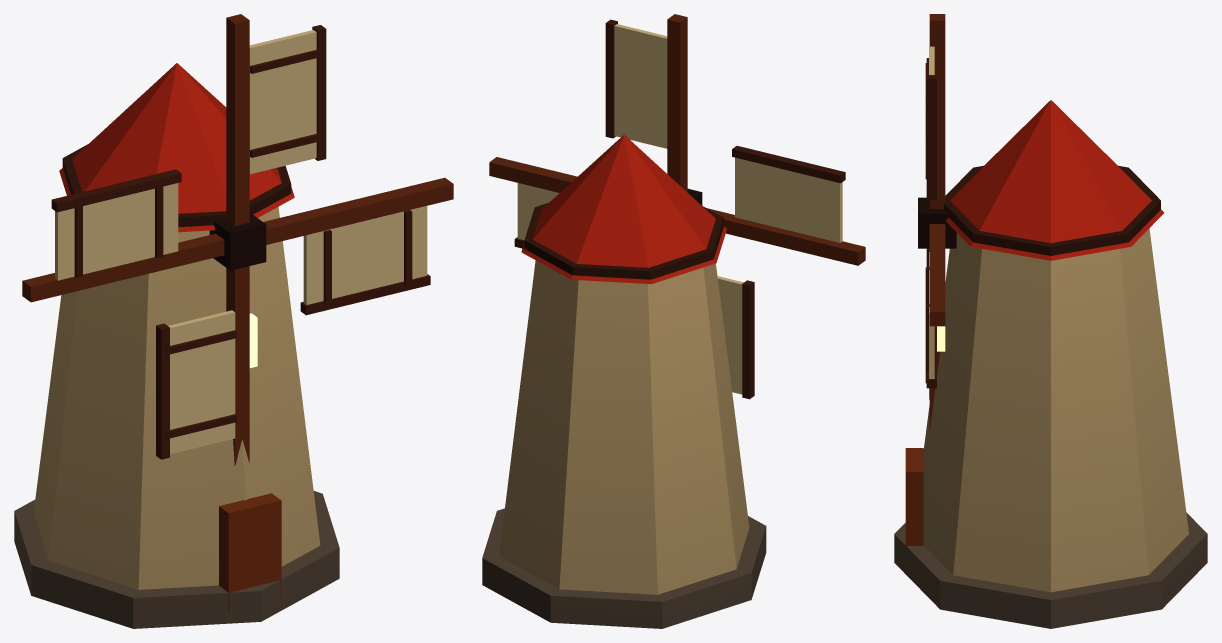
File: windmill.glb
3 renders of one model, left to right at view 1: azimuth 30°, elevation 25°; view 2: azimuth 150°, elevation 25°; view 3: azimuth 270°, elevation 25°, orthographic. The views are drawn at different scales.
Visible parts, largest first — view 1: windmill_body, windmill_sail; view 2: windmill_body, windmill_sail; view 3: windmill_body, windmill_sail.
Part boxes in pixels (bbox=[...]): windmill_body: bbox=[14, 63, 339, 628]; windmill_sail: bbox=[22, 14, 453, 465]; windmill_body: bbox=[482, 134, 766, 628]; windmill_sail: bbox=[489, 14, 865, 399]; windmill_body: bbox=[894, 100, 1207, 628]; windmill_sail: bbox=[918, 14, 956, 431].
Size of the model in its own units: 4 by 5.3 by 2.76.
